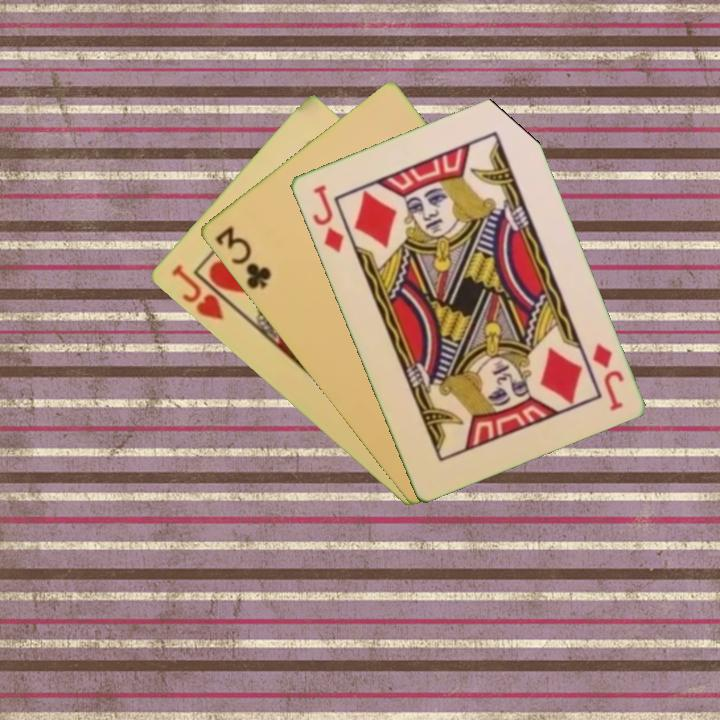3c: (211, 222, 274, 293)
Jd: (588, 339, 627, 414), (308, 181, 347, 255)
Jh: (167, 261, 240, 323)
